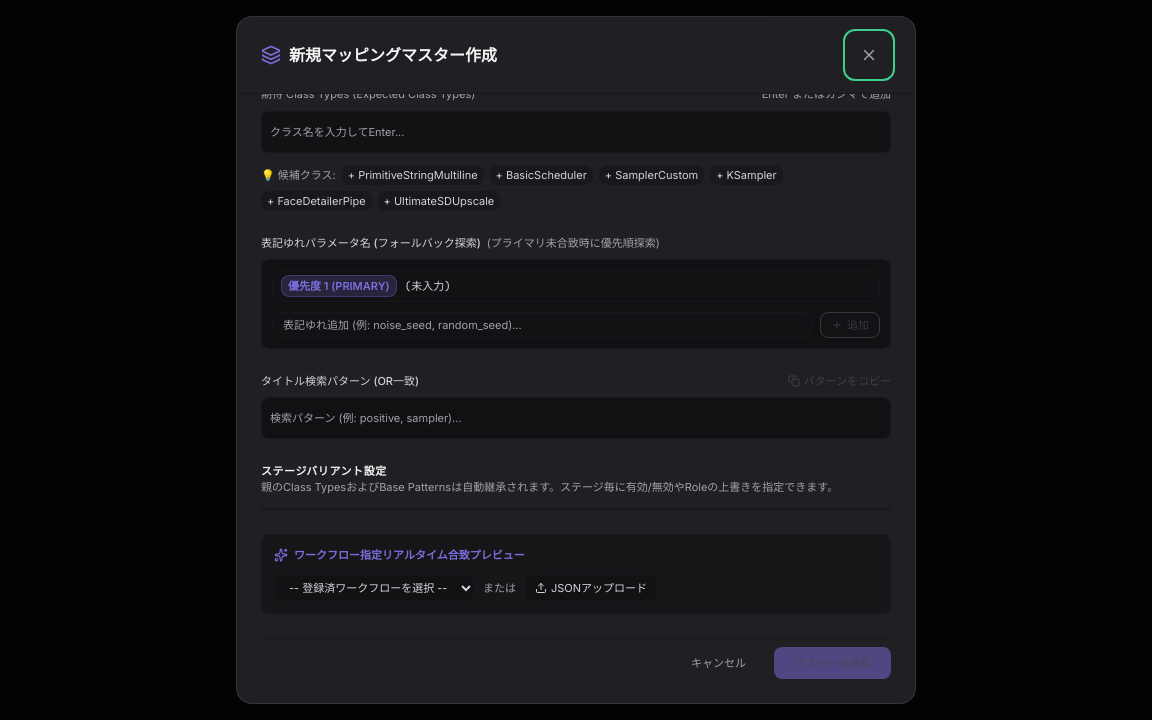
Scenario: MappingMasterEditModal common bottom-sheet Modal › [REQ-365/AC-9] nested node picker backdrop is not inside the space-y form (no sibling margin)
(page scrolled)
Select "wf-one" in the dropdown named "登録済みワークフロー選択": {"x": 374, "y": 588} [274,574,475,600]
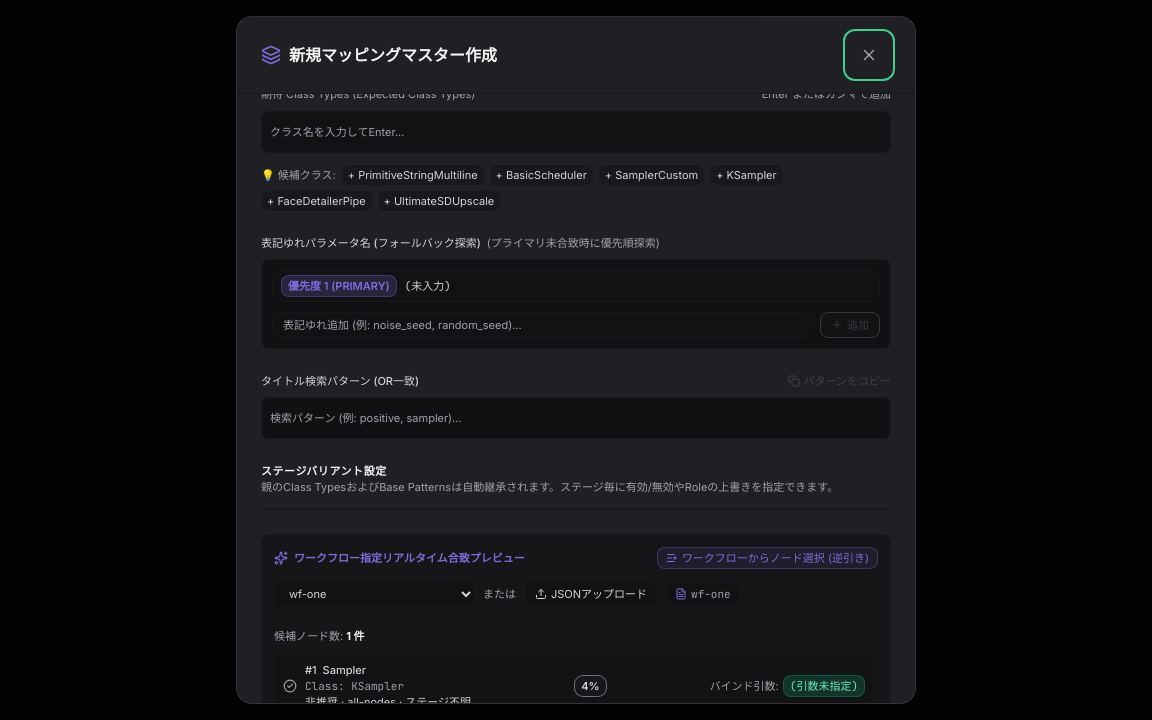
Click the button "ワークフローからノード選択 (逆引き)": {"x": 767, "y": 558} [657,546,878,569]
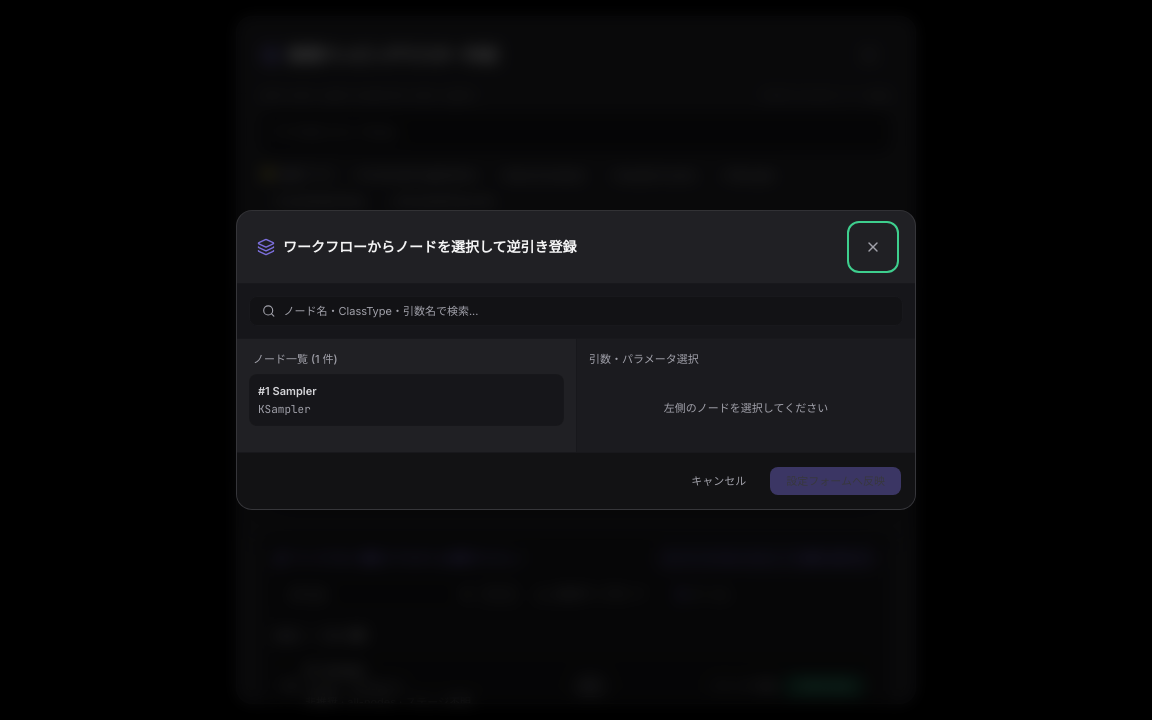
Result: the number of dialogs is 2 at [236,16,916,704]; [236,210,916,510]
